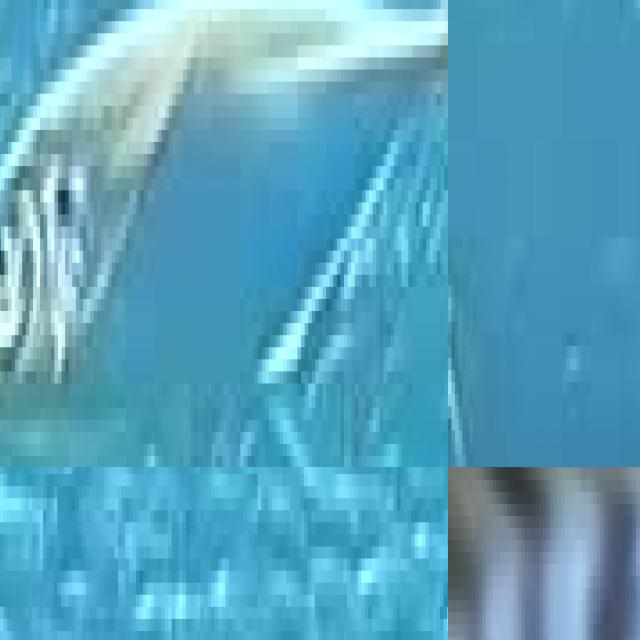fish: (0, 0, 448, 467), (448, 467, 640, 640)
